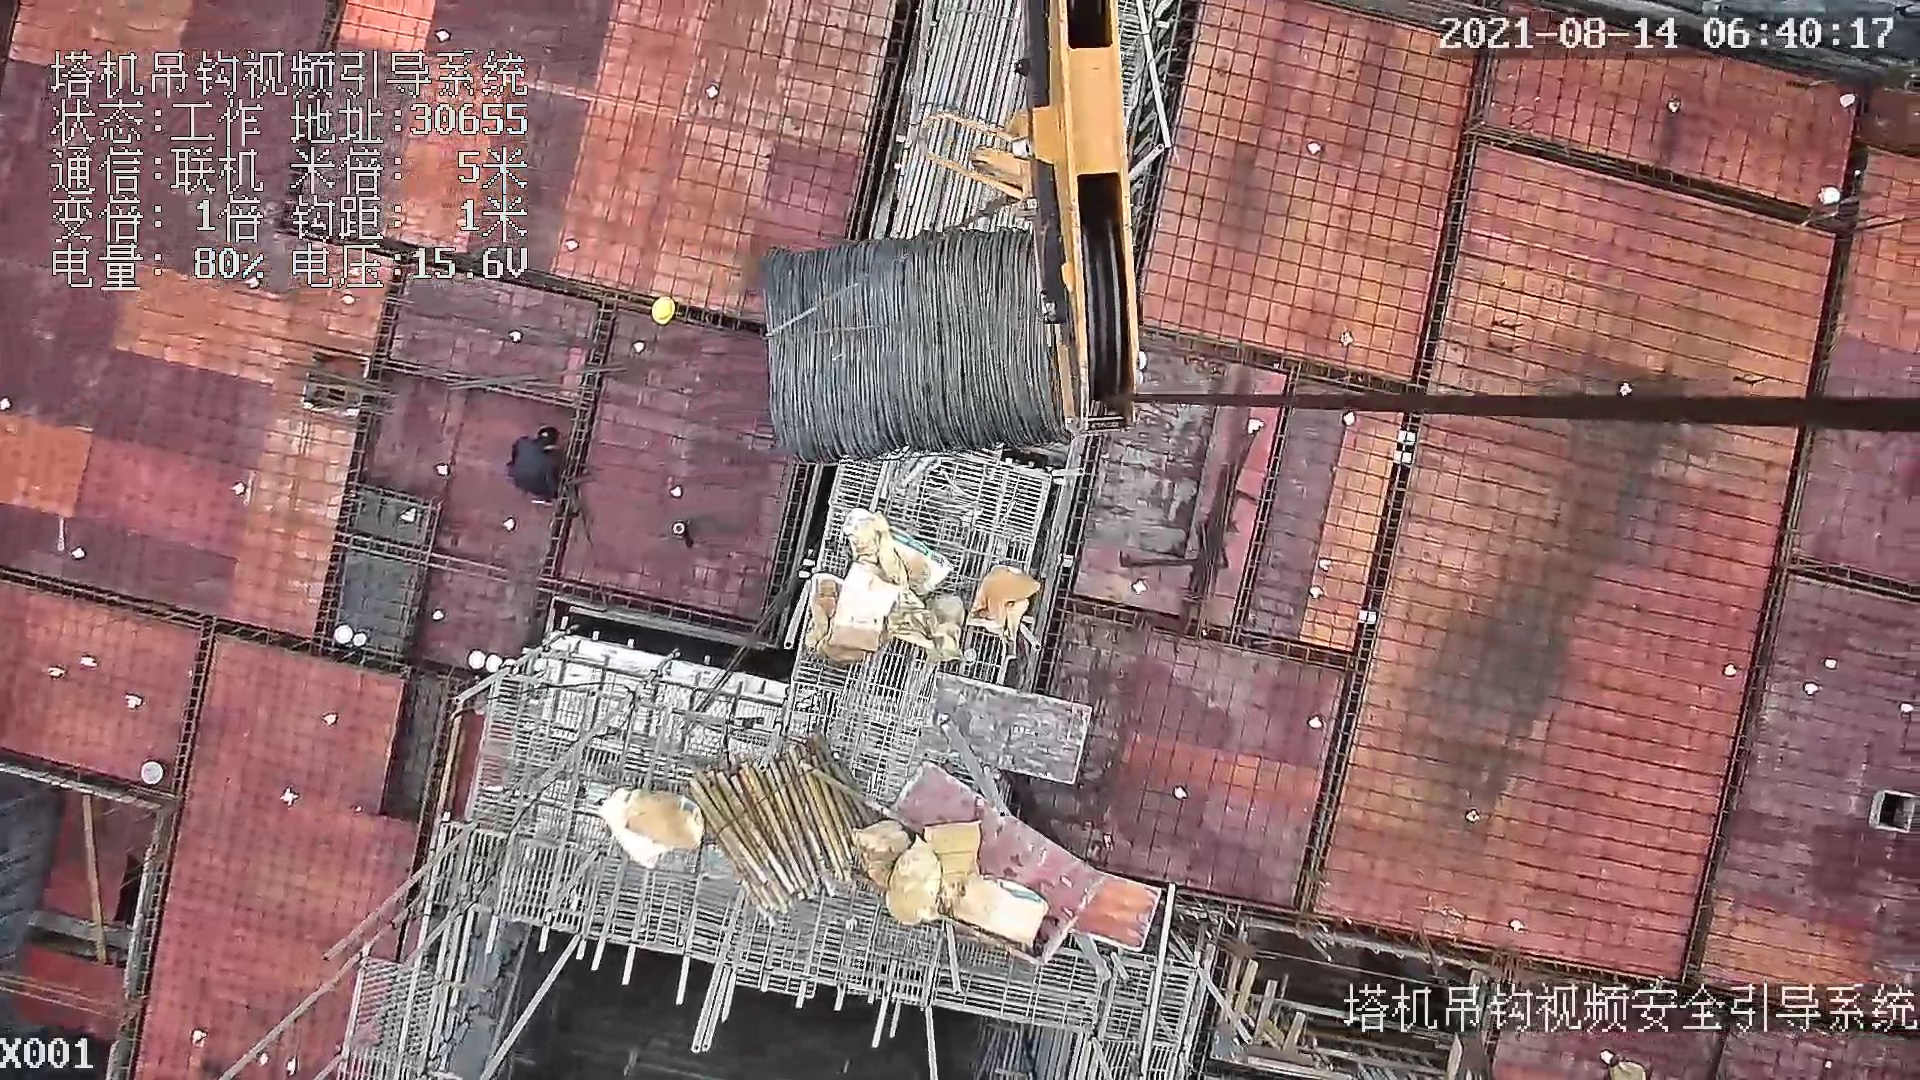helmet: (652, 294, 675, 327)
hook: (918, 1, 1156, 433)
person: (500, 419, 576, 487)
scaffold: (691, 742, 869, 904)
